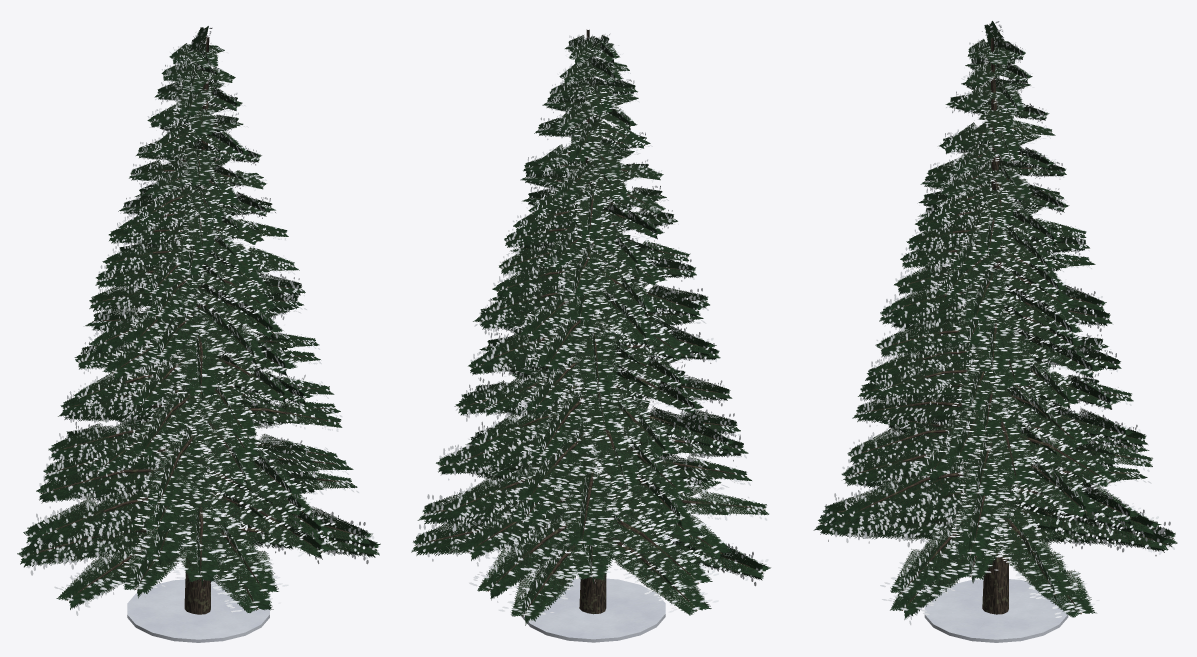
The model's file is snow_pine.glb.
3 renders of one model, left to right at view 1: azimuth 30°, elevation 25°; view 2: azimuth 150°, elevation 25°; view 3: azimuth 270°, elevation 25°, orthographic.
Visible parts, largest first — view 1: Pine; view 2: Pine; view 3: Pine.
Part boxes in pixels (x1,y1,x2,y2): Pine: (17,26,380,642); Pine: (411,29,770,642); Pine: (813,21,1177,642).
Bounding box in the file's own units: 8.04 × 14.49 × 8.22.
Materials: 3 (3 with a texture image).
